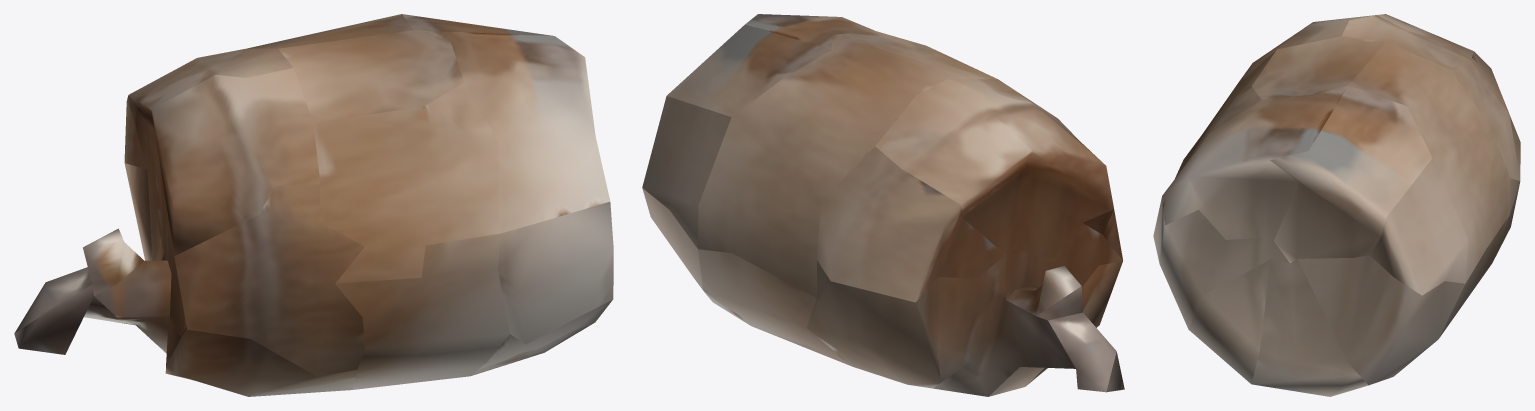
File: Cistern_lod.glb
3 views of the same model, side by side, from view 1: azimuth 30°, elevation 25°; view 2: azimuth 150°, elevation 25°; view 3: azimuth 270°, elevation 25° (orthographic). The views are drawn at different scales.
Parts seen in each view (by area): view 1: Cistern; view 2: Cistern; view 3: Cistern.
Part boxes in pixels (x1=…): Cistern: x1=14, y1=14, x2=613, y2=396; Cistern: x1=642, y1=14, x2=1124, y2=396; Cistern: x1=1153, y1=14, x2=1520, y2=396.
Size of the model in its own units: 0.9979 by 0.5809 by 0.6888.
1 material, 1 textured.
